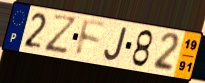2: (152, 31, 182, 72), (23, 11, 48, 51)
8: (131, 29, 154, 68)
F: (74, 17, 107, 58)
J: (103, 25, 129, 63)
Z: (42, 13, 79, 56)
